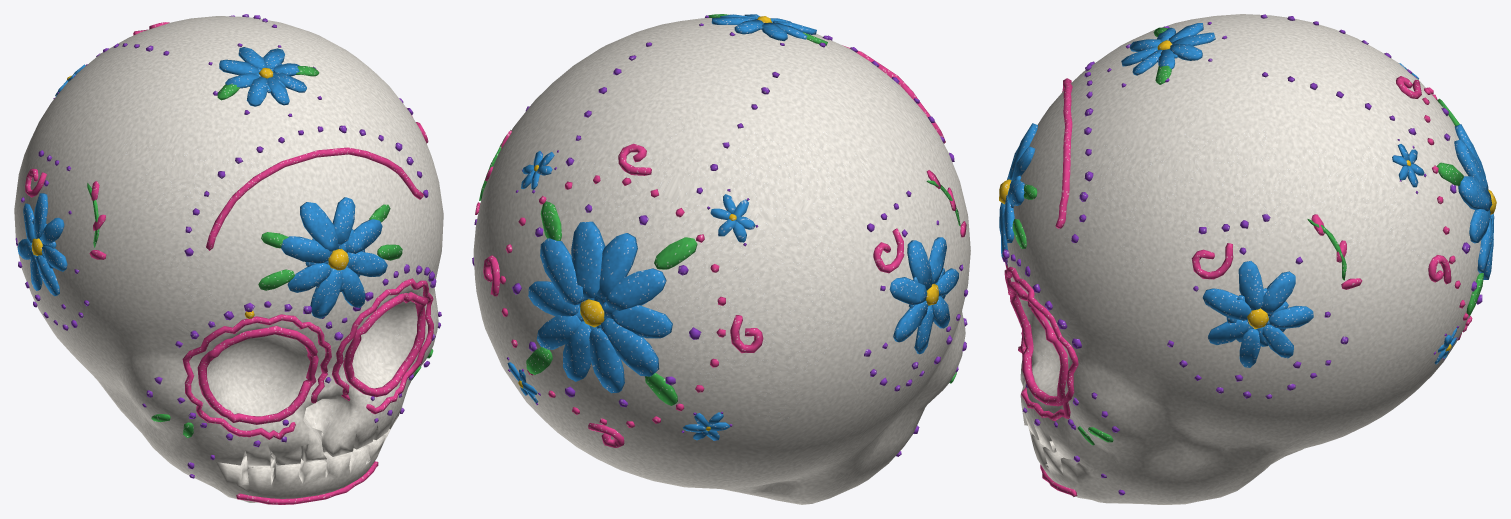
File: calaverita.obj
The picture shows the model from 3 angles, left to right: view 1: azimuth 30°, elevation 25°; view 2: azimuth 150°, elevation 25°; view 3: azimuth 270°, elevation 25°; orthographic projection. The views are drawn at different scales.
Visible parts, largest first — view 1: Calaverita, Deco_Betun_Lineas, Deco_Flores, Deco_Puntos, Deco_Hojas, Deco_Centros; view 2: Calaverita, Deco_Flores, Deco_Betun_Lineas, Deco_Hojas, Deco_Puntos, Deco_Centros; view 3: Calaverita, Deco_Flores, Deco_Betun_Lineas, Deco_Puntos, Deco_Hojas, Deco_Centros.
Boxes of the visible parts, x1,y1,x2,y2 form: Calaverita: [14, 16, 443, 504]; Deco_Betun_Lineas: [25, 22, 433, 504]; Deco_Flores: [17, 47, 387, 318]; Deco_Puntos: [15, 14, 441, 478]; Deco_Hojas: [87, 66, 433, 437]; Deco_Centros: [31, 67, 348, 318]; Calaverita: [473, 18, 970, 504]; Deco_Flores: [507, 14, 958, 440]; Deco_Betun_Lineas: [475, 45, 966, 447]; Deco_Hojas: [479, 14, 960, 405]; Deco_Puntos: [472, 15, 968, 456]; Deco_Centros: [518, 16, 938, 430]; Calaverita: [1007, 14, 1481, 504]; Deco_Flores: [999, 23, 1494, 367]; Deco_Betun_Lineas: [1004, 76, 1472, 496]; Deco_Puntos: [1002, 14, 1482, 495]; Deco_Hojas: [1012, 27, 1483, 445]; Deco_Centros: [999, 40, 1496, 351].
Size of the model in its own units: 2.02 by 2.03 by 2.09.
6 materials, 6 textured.
